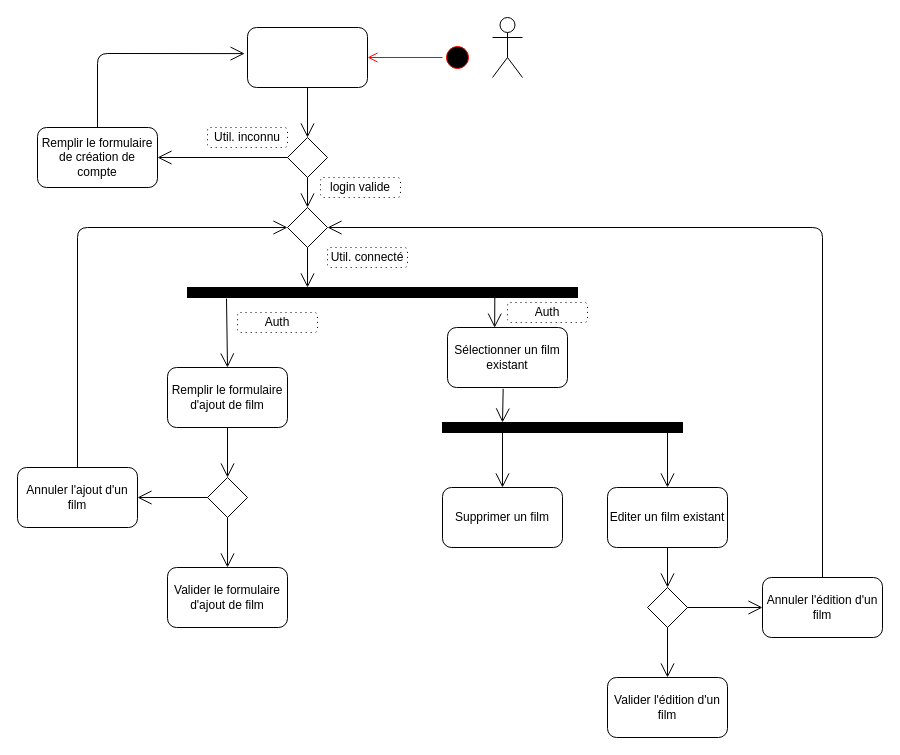
This 900x755 diagram has some shape labels left out. Here are the shapes that lost their labels. From the top down, the centre of each, then its label:
point (307, 57): Remplir le formulaire de login
point (507, 47): Actor
